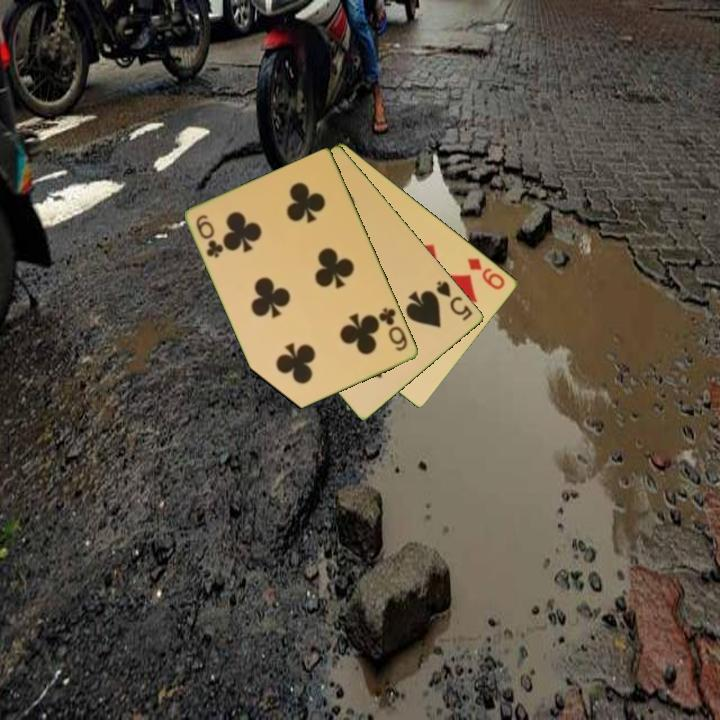5s: (433, 277, 476, 323)
6c: (375, 304, 411, 354), (193, 211, 227, 261)
9d: (464, 254, 508, 293)
